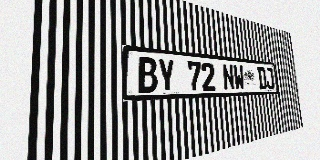2: (201, 62, 216, 91)
7: (187, 61, 203, 92)
B: (137, 56, 158, 93)
D: (257, 67, 267, 90)
J: (265, 67, 275, 89)
N: (222, 64, 235, 91)
W: (233, 65, 245, 90)
Y: (157, 58, 176, 92)
